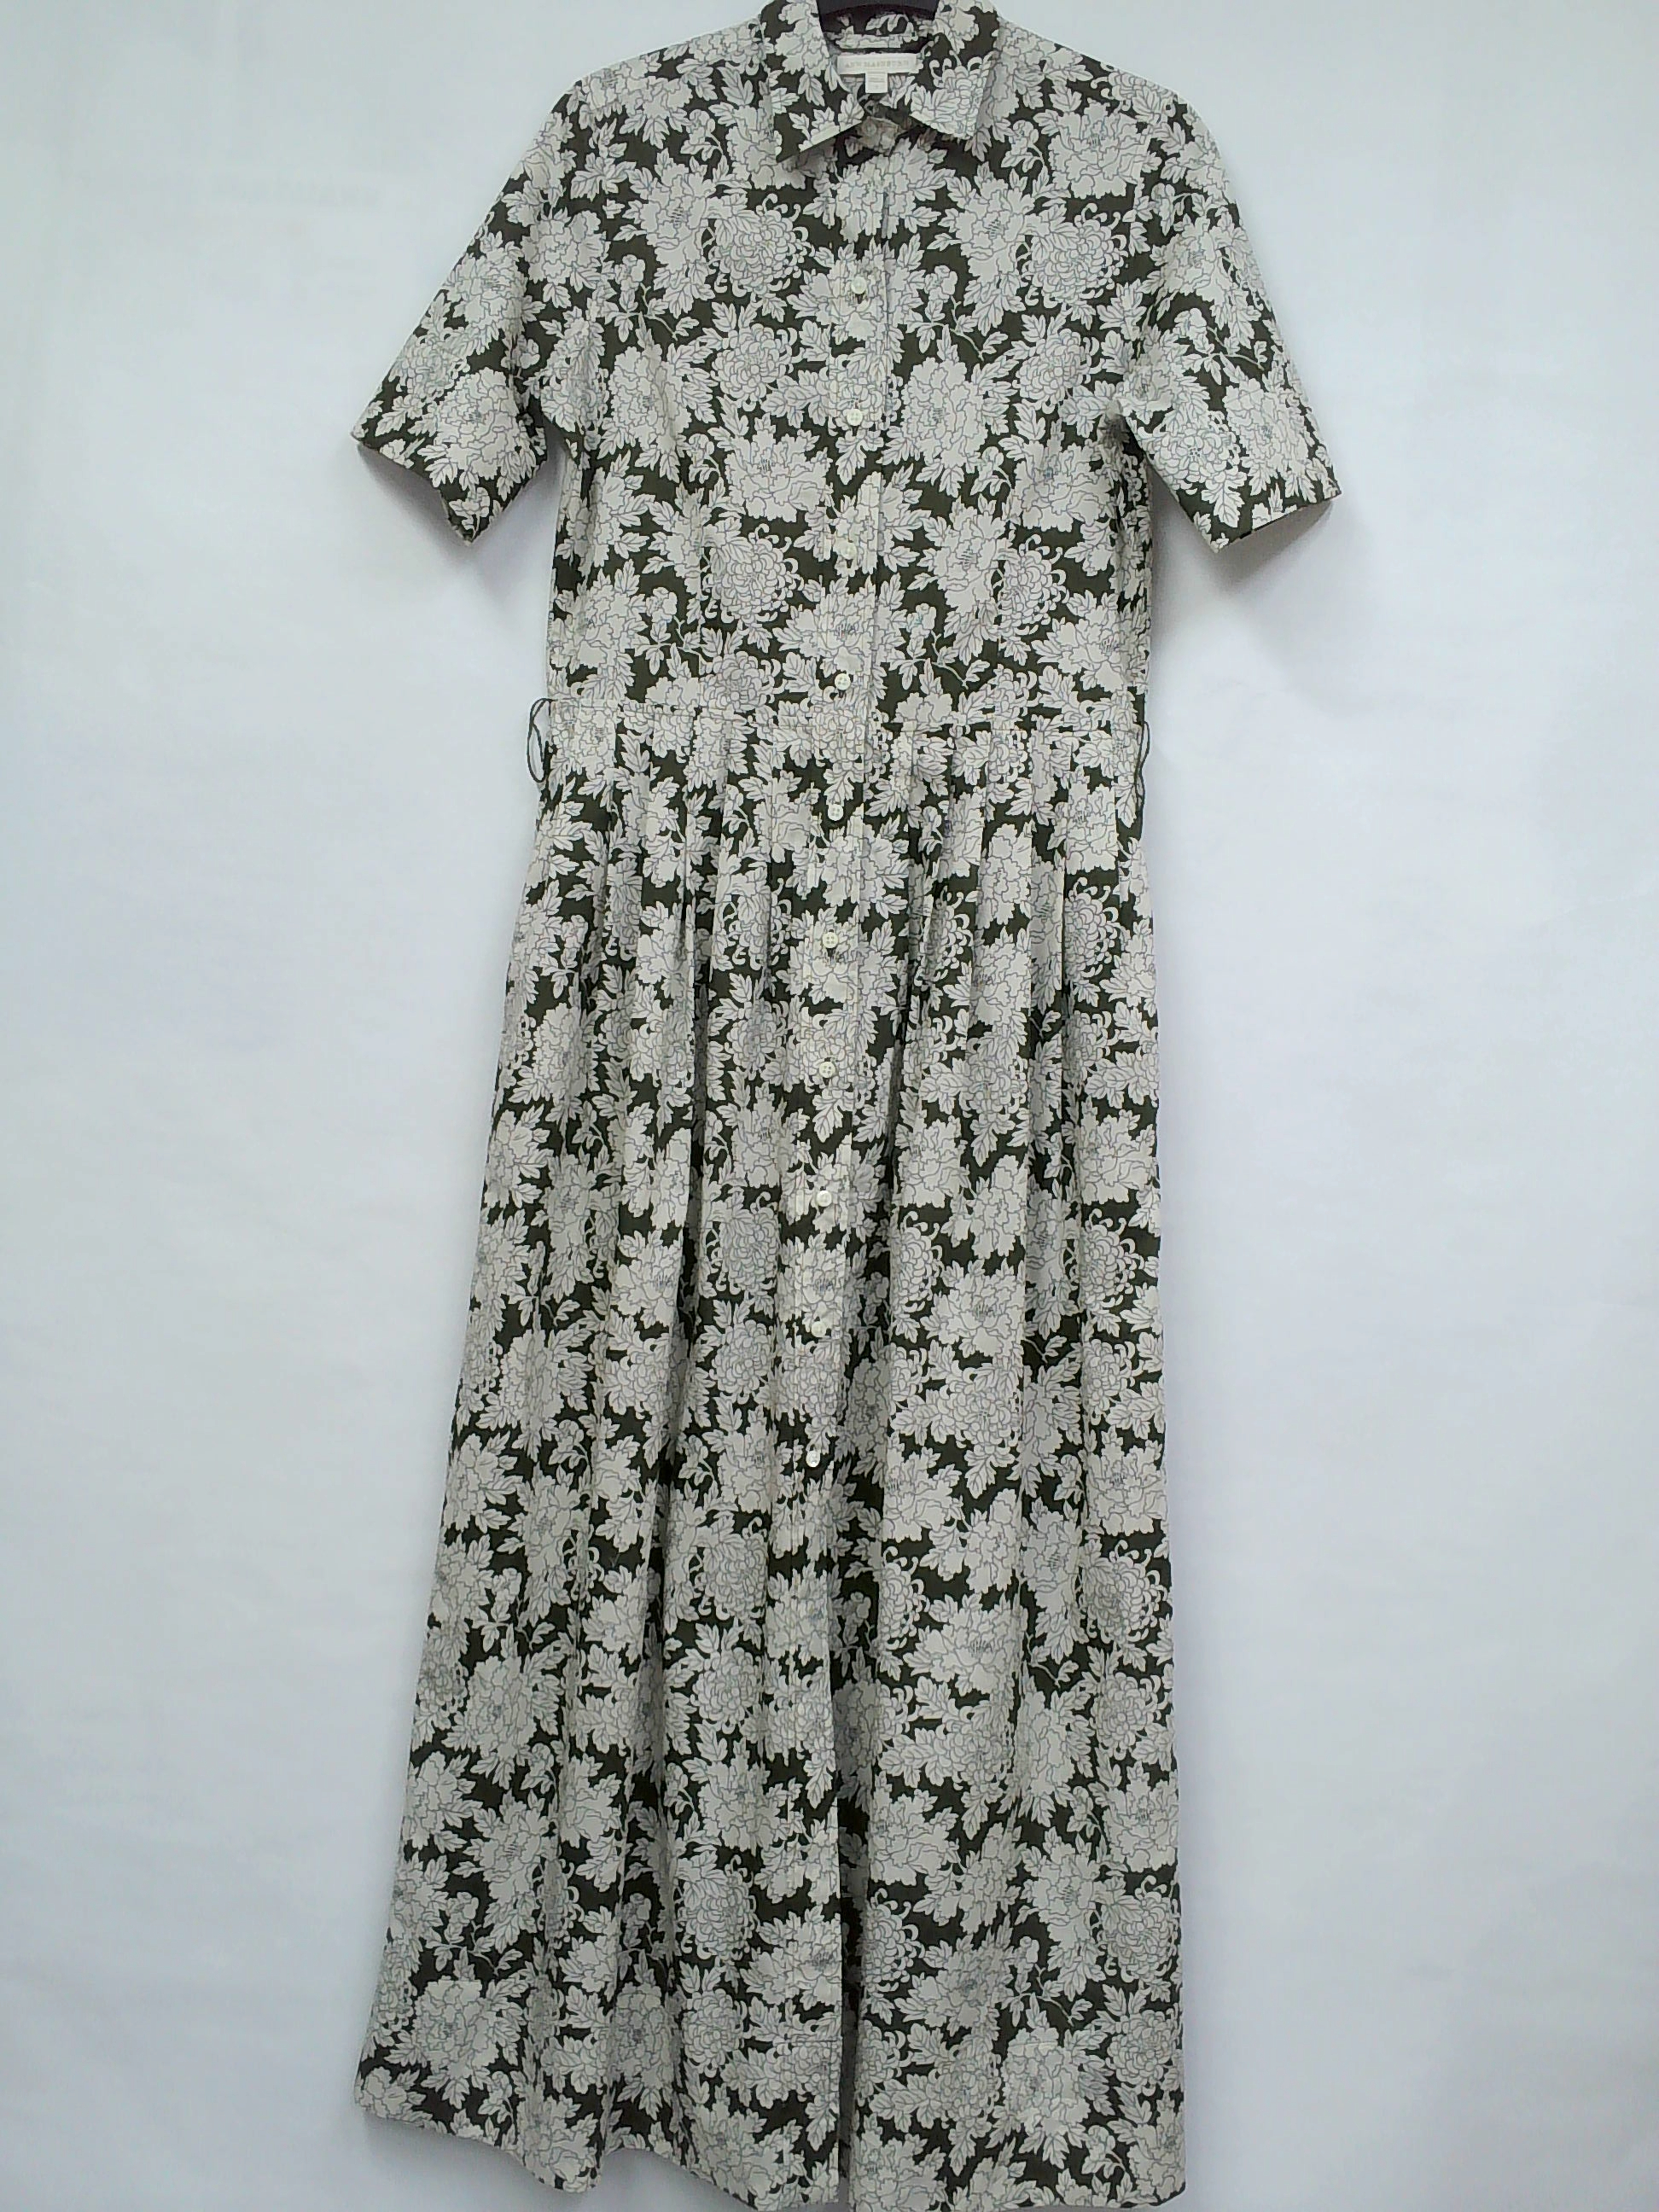seam: (749, 1989, 875, 2212)
